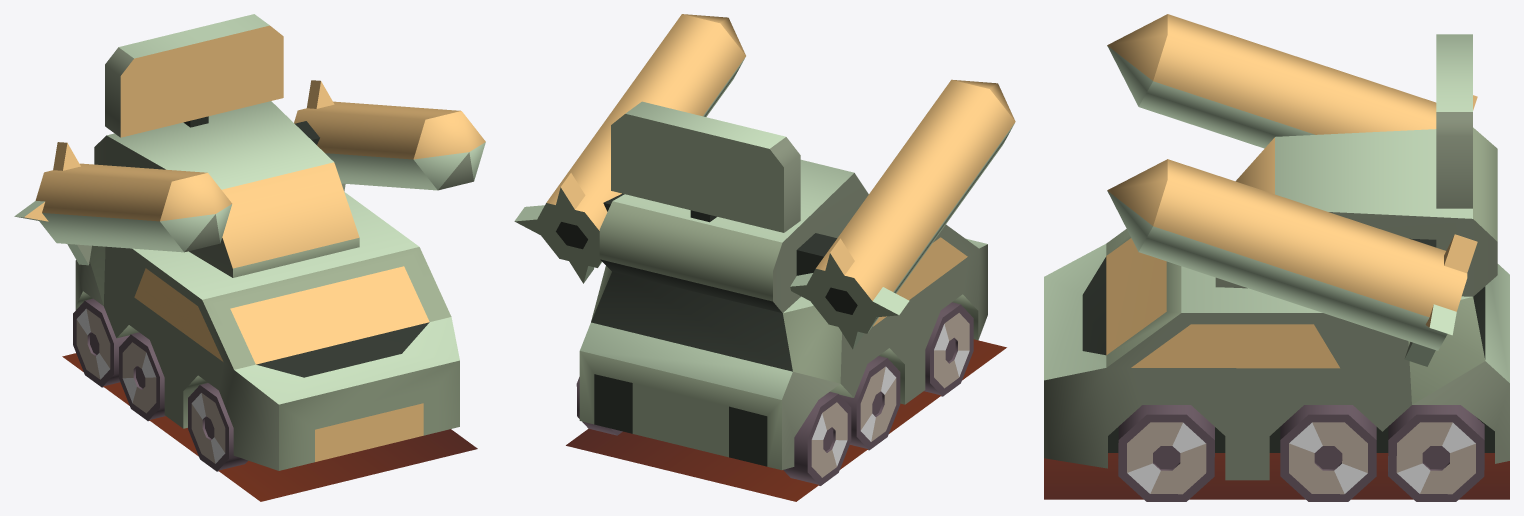
File: MissileMesh.JadeSun.glb
3 views of the same model, side by side, from view 1: azimuth 30°, elevation 25°; view 2: azimuth 150°, elevation 25°; view 3: azimuth 270°, elevation 25° (orthographic). The views are drawn at different scales.
Parts seen in each view (by area): view 1: MissileMesh.JadeSun; view 2: MissileMesh.JadeSun; view 3: MissileMesh.JadeSun.
Part boxes in pixels (bbox=[...]): MissileMesh.JadeSun: bbox=[14, 14, 485, 501]; MissileMesh.JadeSun: bbox=[514, 14, 1015, 501]; MissileMesh.JadeSun: bbox=[1044, 14, 1509, 501].
Bounding box in the file's own units: 2 × 1.65 × 1.9.
1 material, 1 textured.
